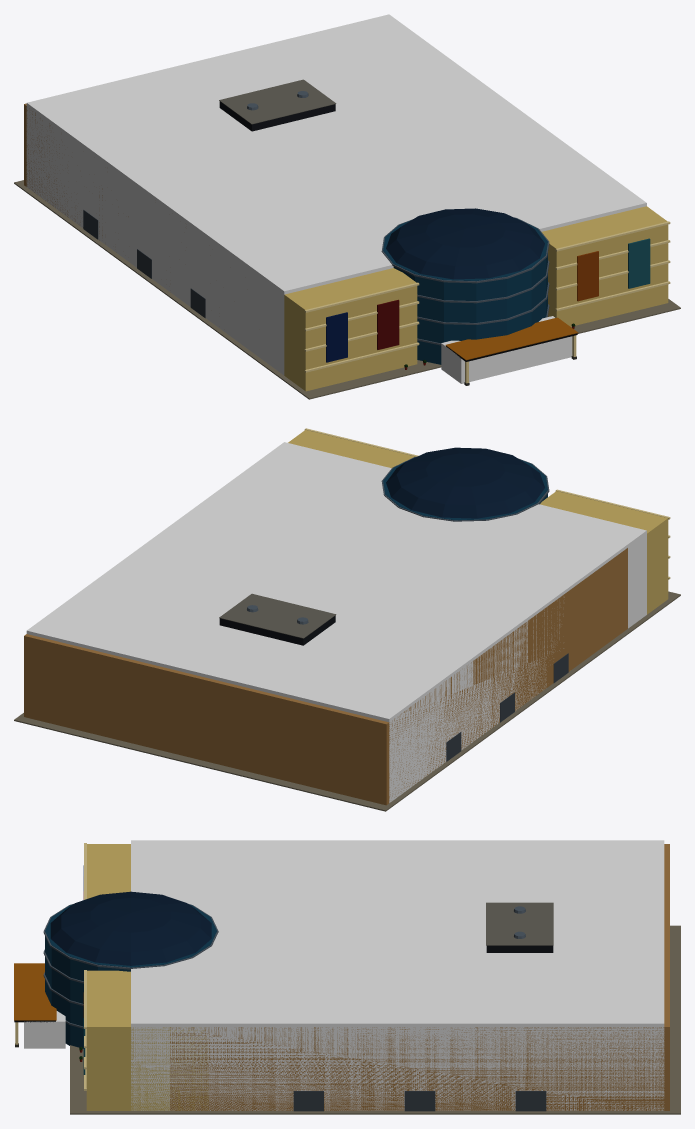
File: B43_shopping_mall.glb
3 views of the same model, one above another, from view 1: azimuth 30°, elevation 25°; view 2: azimuth 150°, elevation 25°; view 3: azimuth 270°, elevation 25° (orthographic). The views are drawn at different scales.
Visible parts, largest first — view 1: COL_Main, LOD0, COL_Verandah; view 2: COL_Main, LOD0; view 3: COL_Main, LOD0, COL_Verandah.
Part boxes in pixels (<box>): COL_Main: <box>26,14,646,375</box>; LOD0: <box>14,79,680,399</box>; COL_Verandah: <box>441,316,572,383</box>; COL_Main: <box>26,442,646,802</box>; LOD0: <box>14,428,680,811</box>; COL_Main: <box>131,840,664,1110</box>; LOD0: <box>14,843,680,1114</box>; COL_Verandah: <box>24,1011,65,1048</box>.
Size of what is drawn, in the model's own units: 80 by 21.4 by 120.
